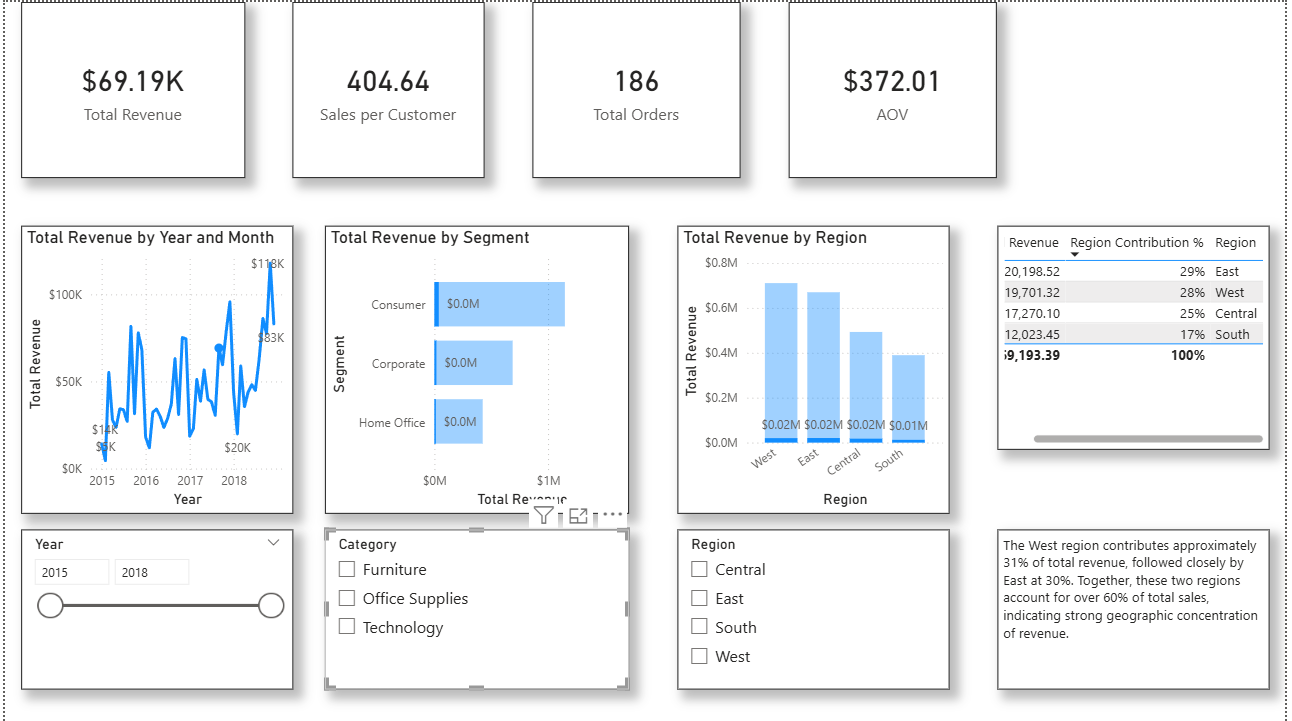

This screenshot's page, from the dashboard's own definition file:
{"tool":"powerbi","page":{"name":"Page 1","canvas":[1280,720],"ordinal":0},"visuals":[{"type":"card","fields":{"Values":["train.Total Revenue"]},"box":[16,0,224,176],"z":0},{"type":"card","title":"Total Orders","fields":{"Values":["train.Total Orders"]},"box":[528,0,208,176],"z":1},{"type":"card","fields":{"Values":["train.AOV"]},"box":[784,0,208,176],"z":2},{"type":"card","fields":{"Values":["train.Sales per Customer"]},"box":[288,0,192,176],"z":3},{"type":"lineChart","fields":{"Category":["train.Order Date.Variation.Date Hierarchy.Year","train.Order Date.Variation.Date Hierarchy.Month"],"Y":["train.Total Revenue"]},"box":[16,224,272,288],"z":4},{"type":"clusteredBarChart","fields":{"Category":["train.Segment"],"Y":["train.Total Revenue"]},"box":[320,224,304,288],"z":5},{"type":"clusteredColumnChart","fields":{"Category":["train.Region"],"Y":["train.Total Revenue"]},"box":[672,224,272,288],"z":6},{"type":"tableEx","fields":{"Values":["train.Total Revenue","train.Region Contribution %","train.Region"]},"box":[992,224,272,224],"z":7},{"type":"slicer","fields":{"Values":["train.Category"]},"box":[320,528,304,160],"z":8},{"type":"slicer","fields":{"Values":["train.Year"]},"box":[16,528,272,160],"z":9},{"type":"slicer","fields":{"Values":["train.Region"]},"box":[672,528,272,160],"z":10},{"type":"textbox","box":[992,528,272,160],"z":11}]}

Visuals, with their boxes in screenshot pixels (x1, y1, x2, y2), scaled from the page's 1280x720 canvas onto the 1292x721 screenshot:
card - train.Total Revenue: x1=16 y1=0 x2=242 y2=176
"Total Orders" card: x1=533 y1=0 x2=743 y2=176
card - train.AOV: x1=791 y1=0 x2=1001 y2=176
card - train.Sales per Customer: x1=291 y1=0 x2=484 y2=176
lineChart - train.Order Date.Variation.Date Hierarchy.Year x train.Order Date.Variation.Date Hierarchy.Month: x1=16 y1=224 x2=291 y2=513
clusteredBarChart - train.Segment x train.Total Revenue: x1=323 y1=224 x2=630 y2=513
clusteredColumnChart - train.Region x train.Total Revenue: x1=678 y1=224 x2=953 y2=513
tableEx - train.Total Revenue x train.Region Contribution %: x1=1001 y1=224 x2=1276 y2=449
slicer - train.Category: x1=323 y1=529 x2=630 y2=689
slicer - train.Year: x1=16 y1=529 x2=291 y2=689
slicer - train.Region: x1=678 y1=529 x2=953 y2=689
textbox: x1=1001 y1=529 x2=1276 y2=689
